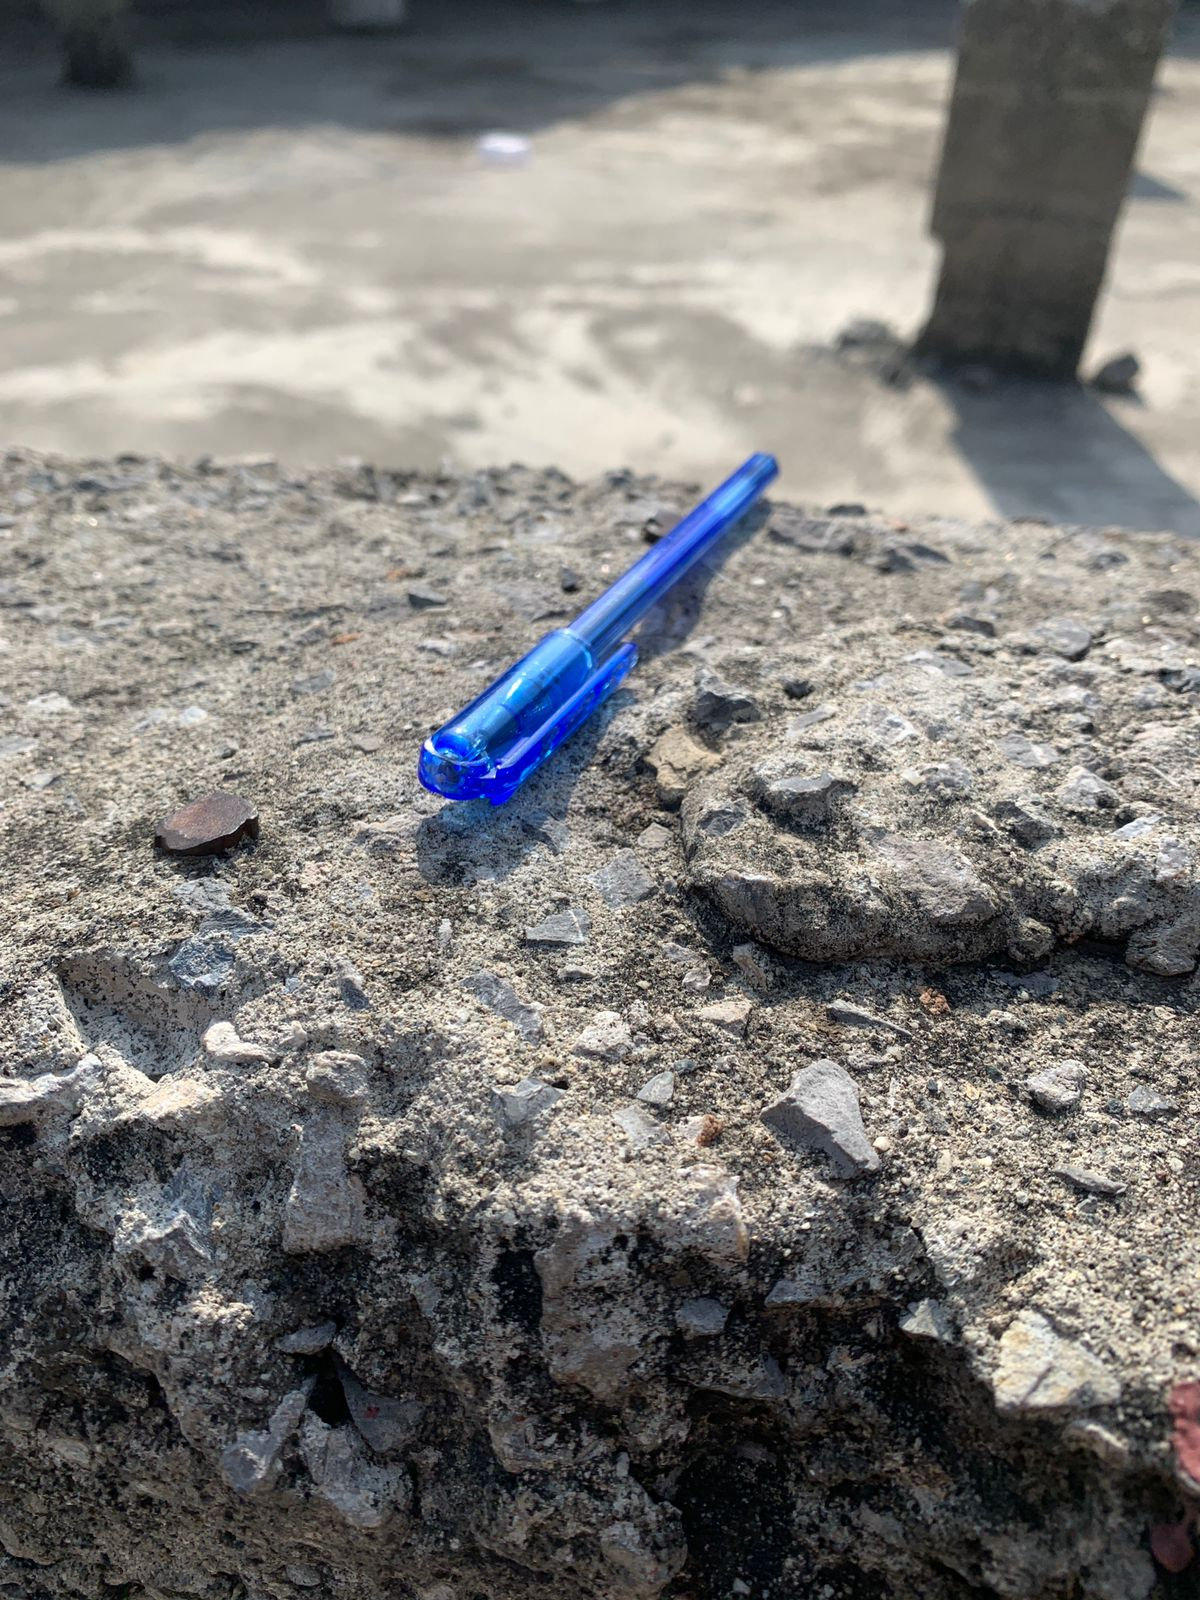pen: (335, 399, 846, 955)
